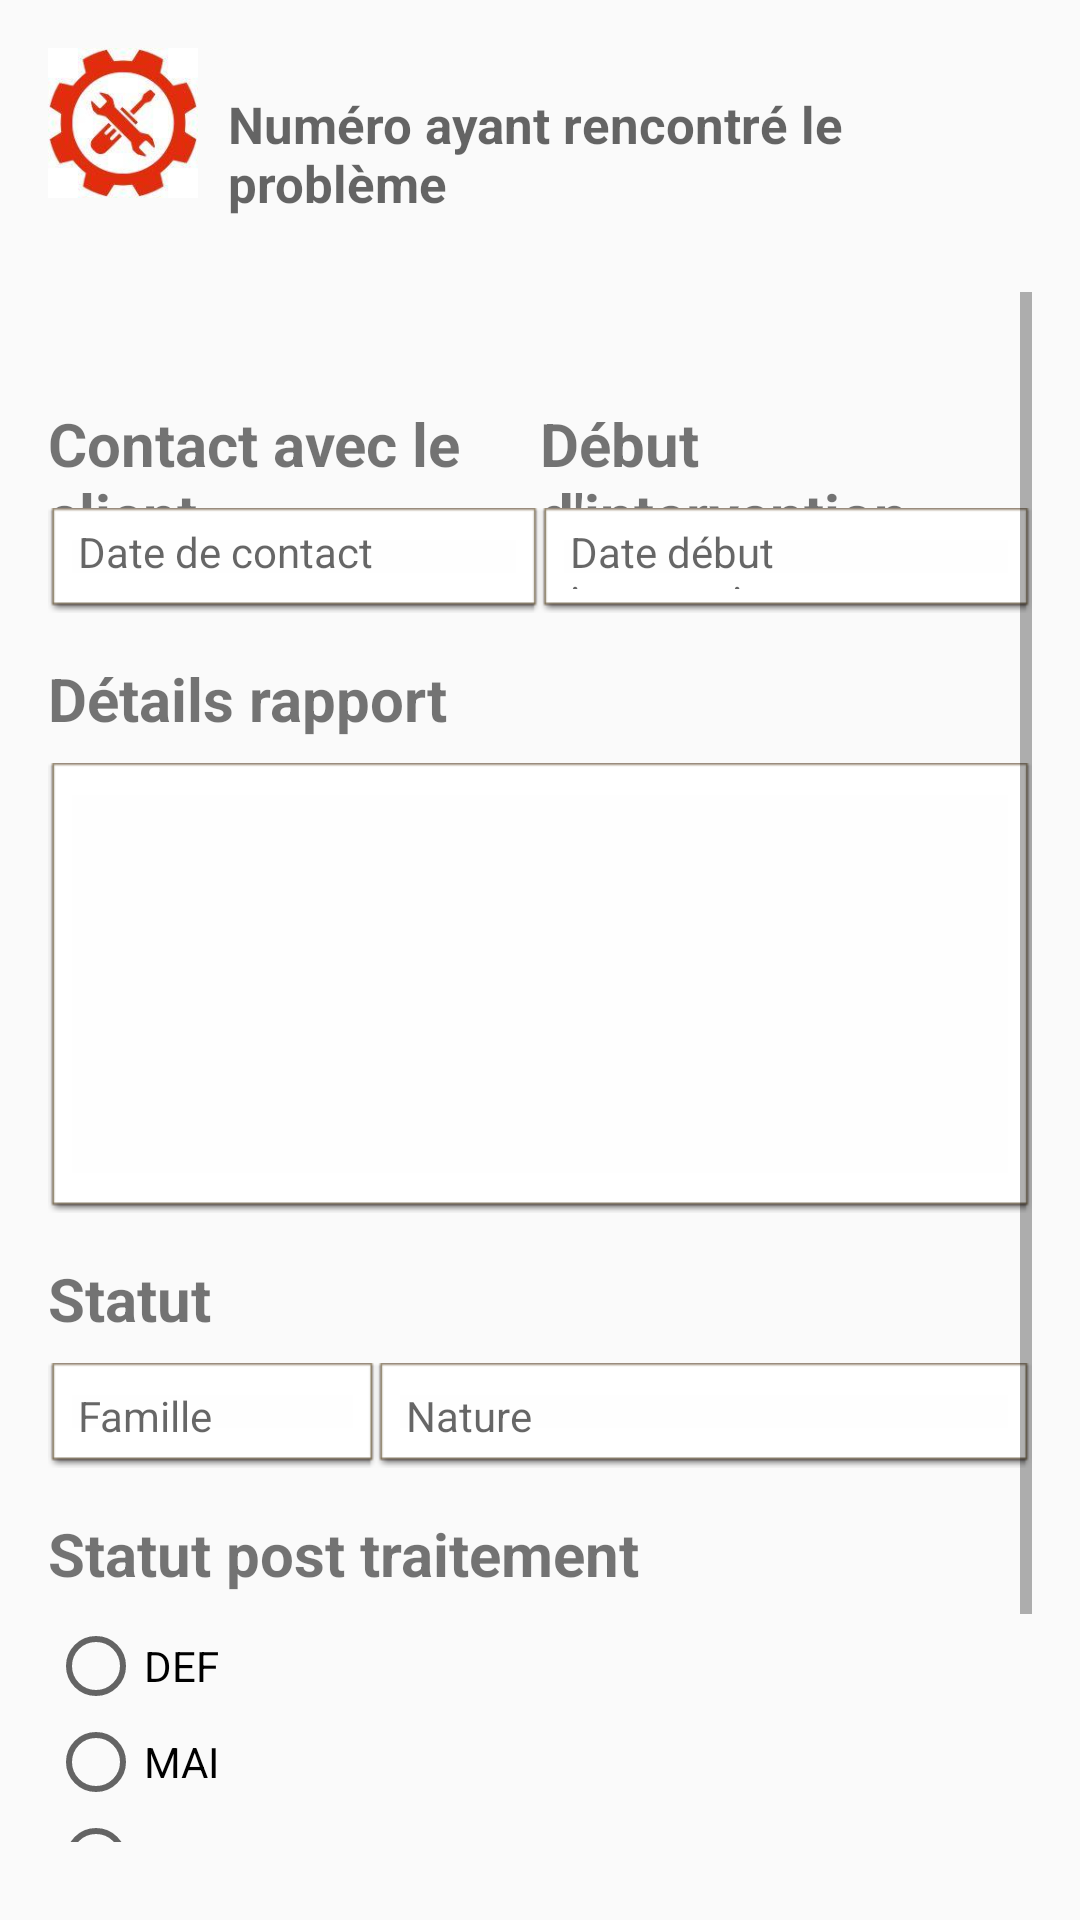

Icons on this 1080x1920 Android screen, each with its box as [x1, y1, x2, y2]:
tools: [48, 48, 198, 198]
